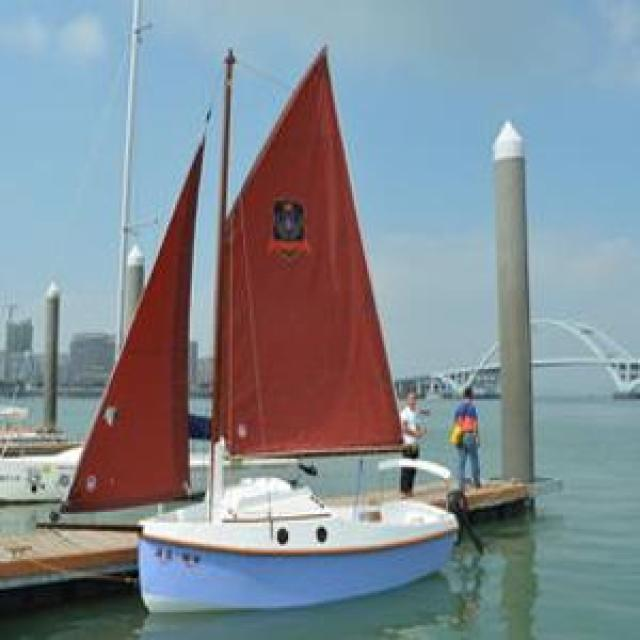sailboat: (74, 44, 454, 608)
